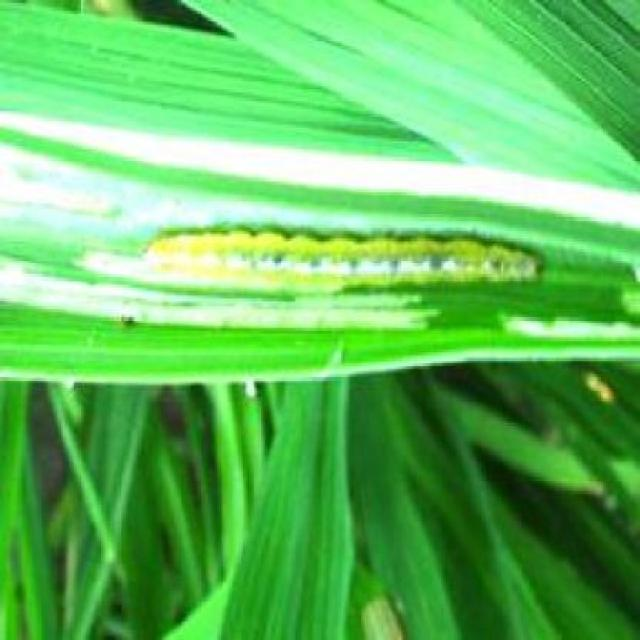leaf-folder: (143, 194, 563, 326)
